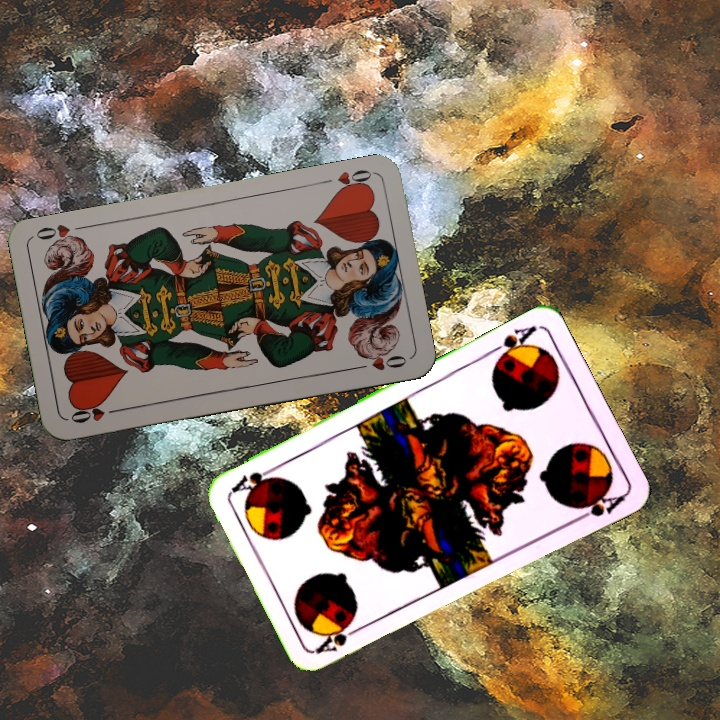HO: (66, 402, 124, 426), (331, 165, 375, 196)
SA: (484, 321, 539, 366), (312, 620, 367, 656)
